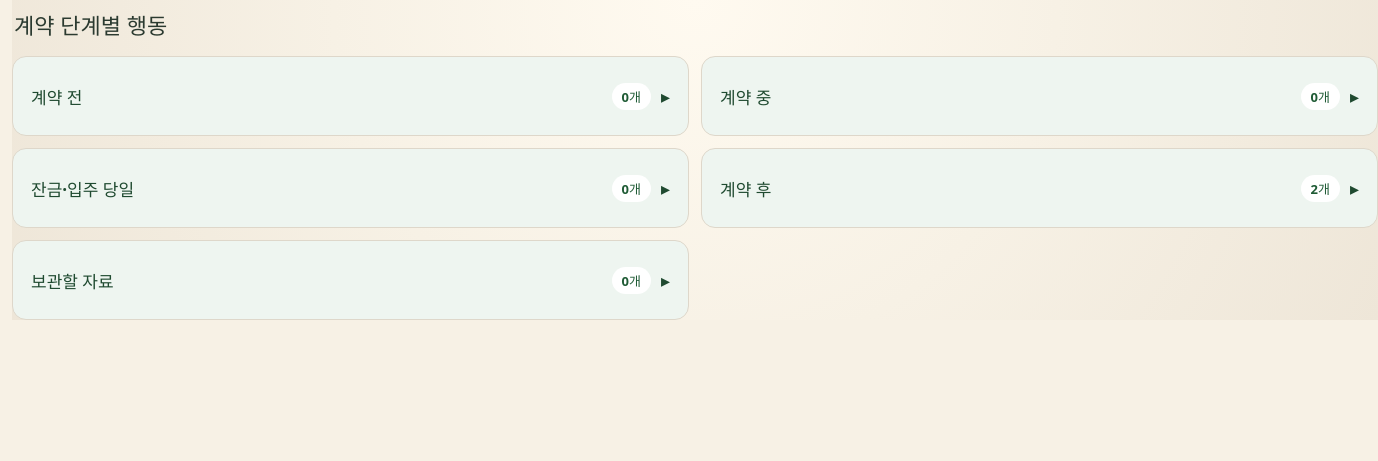
Test: StageActions › merges duplicate post-contract reporting and move-in protection actions
Click the button "계약 후 2개 ▸" at coordinates (746, 189), box [717,164,1362,212]
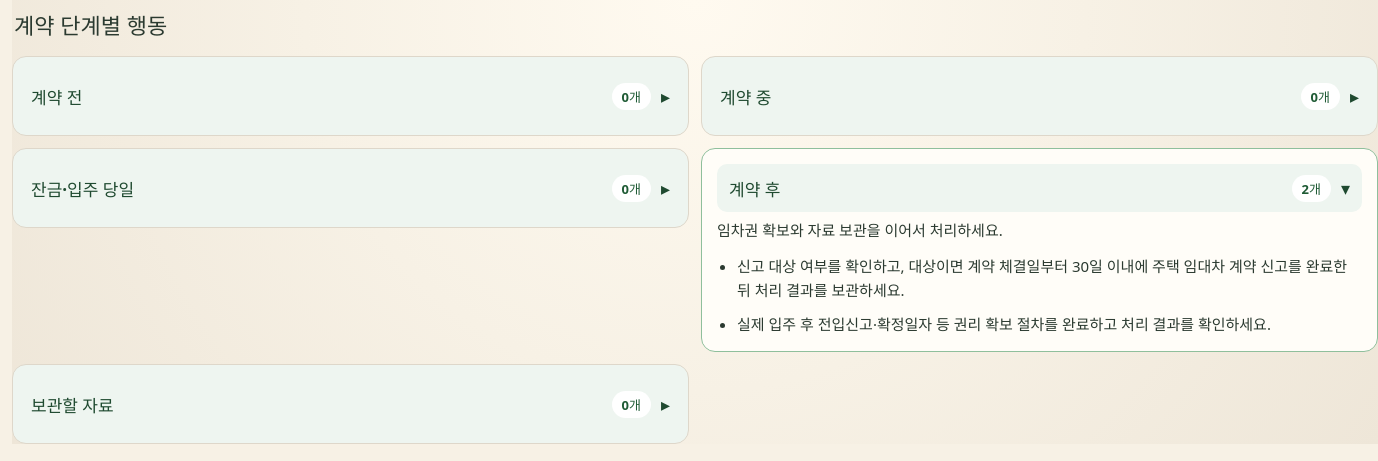
Result: the number of list items is 2 at [737,254,1362,302]; [737,312,1362,336]
Result: the text "계약 체결일부터 30일 이내" is shown at [737,256,1347,300]
Result: the text "실제 입주 후 전입신고·확정일자 등 권리 확보 절차를 완료하고 처리 결과를 확인하세요." is shown at [737,314,1271,334]
